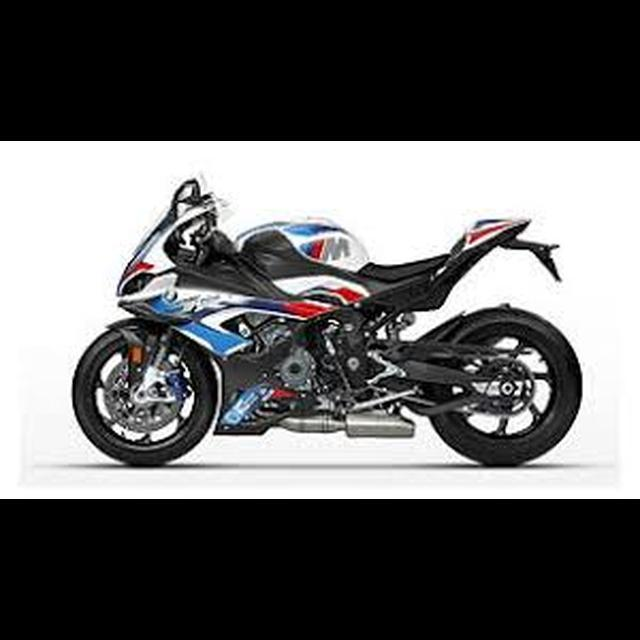motorcycle: (65, 169, 587, 469)
